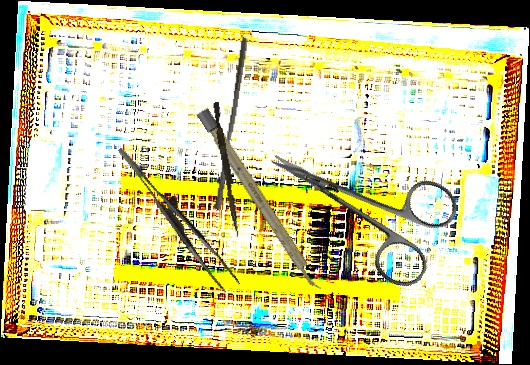Iris Scissors: (247, 106, 467, 295)
Pusher: (213, 35, 249, 212), (209, 101, 245, 238)
Scalpel Handle: (196, 107, 324, 294)
Tissue Forceps: (117, 131, 241, 303)
